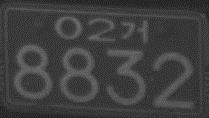0: (54, 15, 82, 41)
2: (151, 50, 196, 111), (86, 16, 117, 42)
3: (104, 47, 147, 106)
8: (58, 45, 99, 104), (13, 43, 53, 100)
거: (119, 19, 148, 43)
